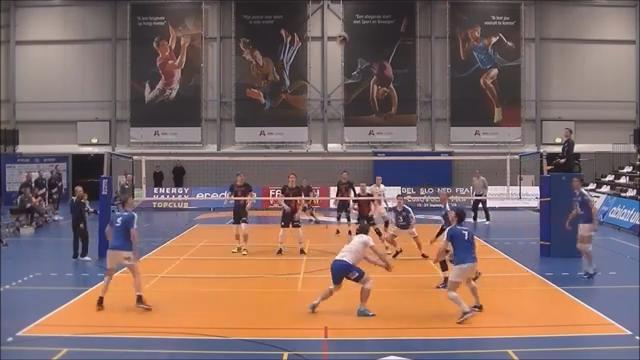ricezione: (306, 221, 394, 316)
